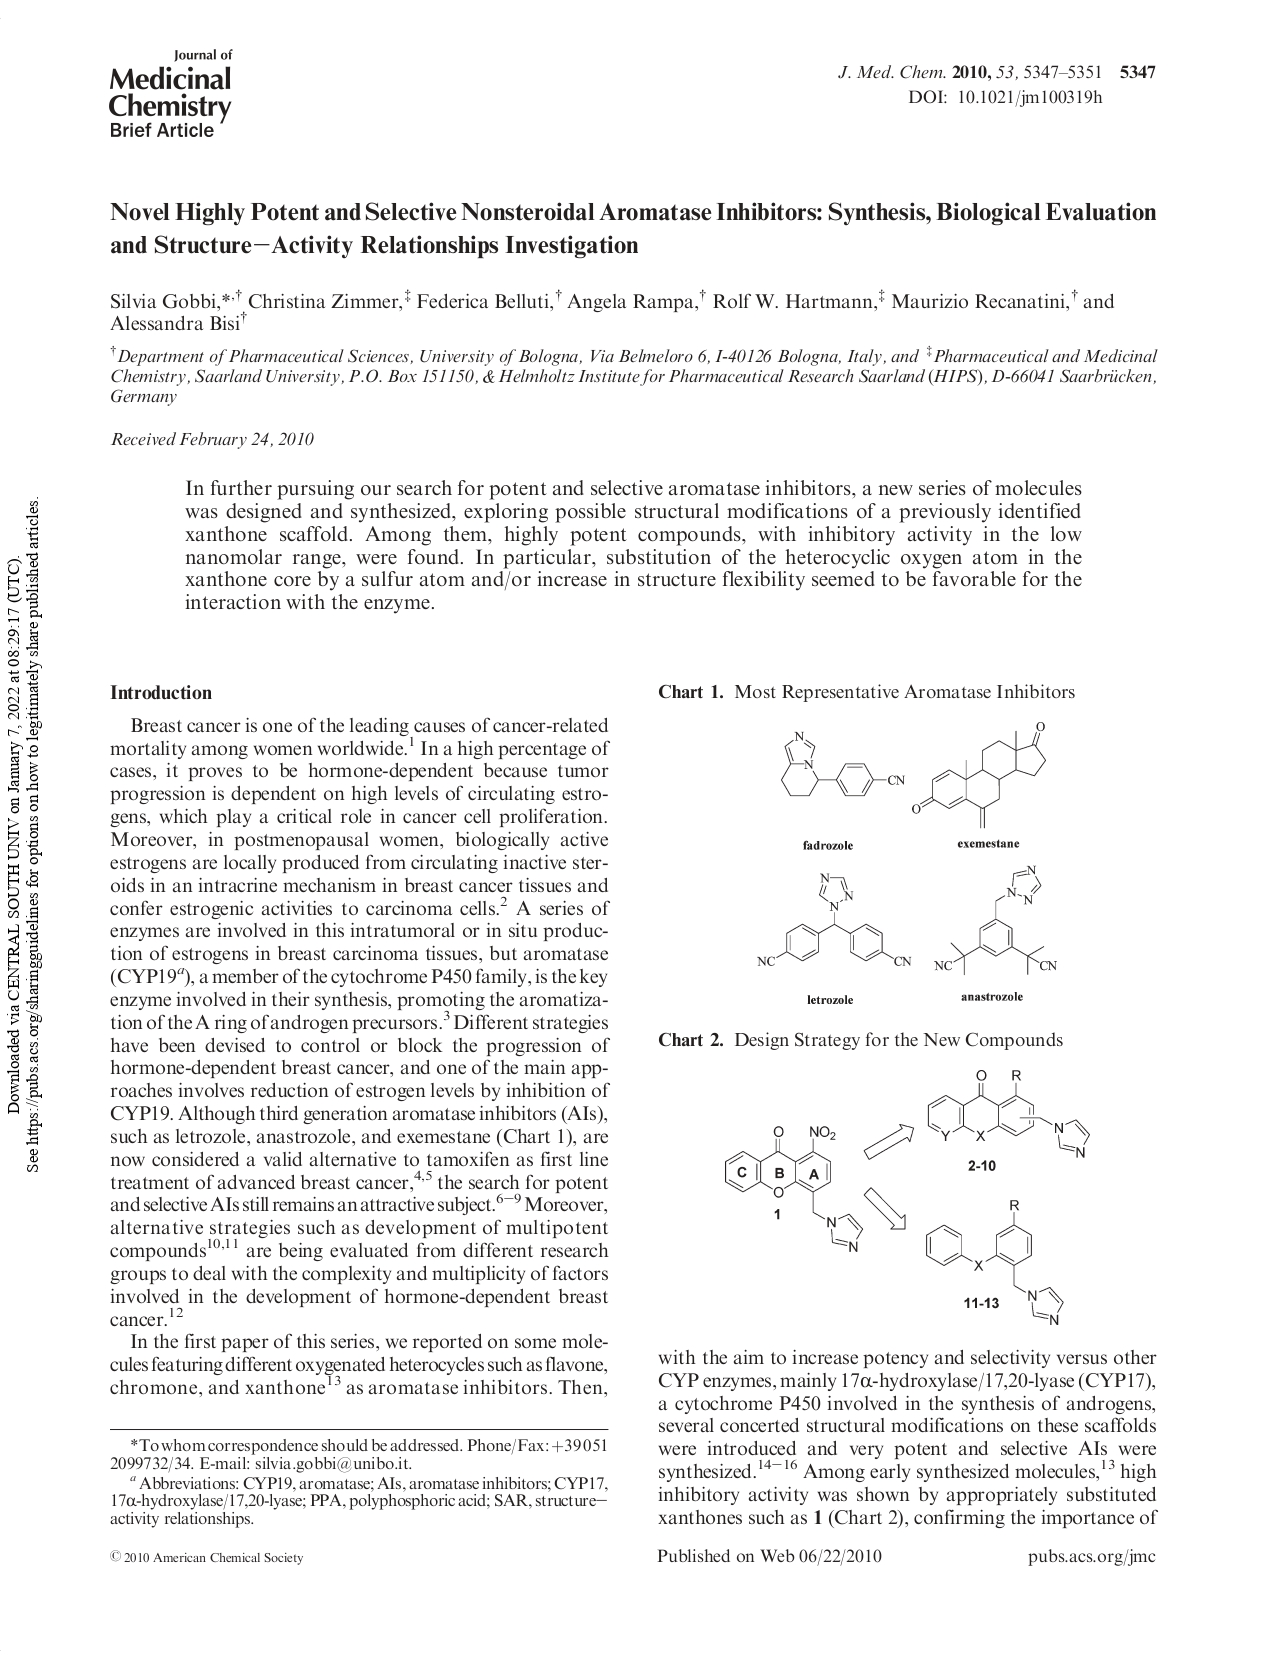exist_molecular: (723, 1118, 866, 1254), (924, 1193, 1065, 1326), (755, 868, 914, 969), (911, 717, 1052, 830), (926, 1067, 1092, 1157), (934, 862, 1063, 975), (781, 730, 906, 798)
